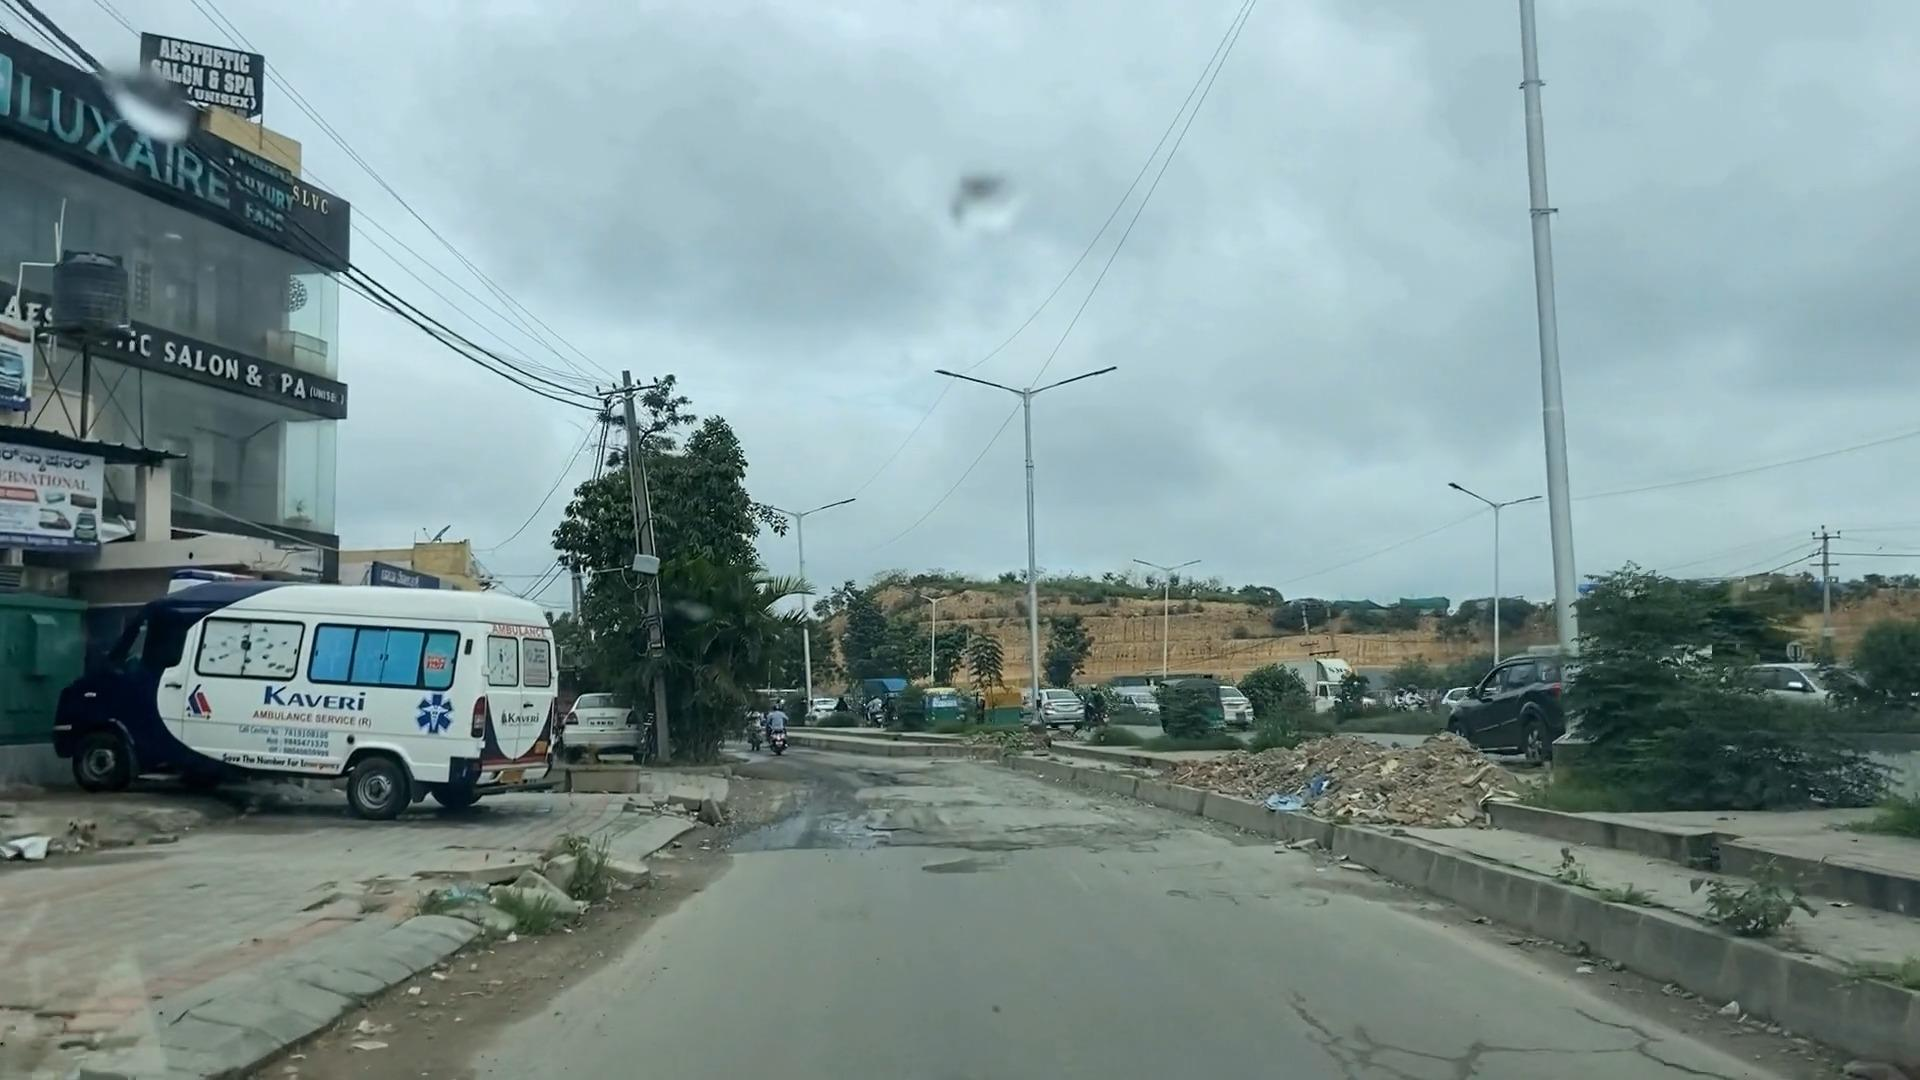RoadDamages: (738, 803, 1047, 886)
